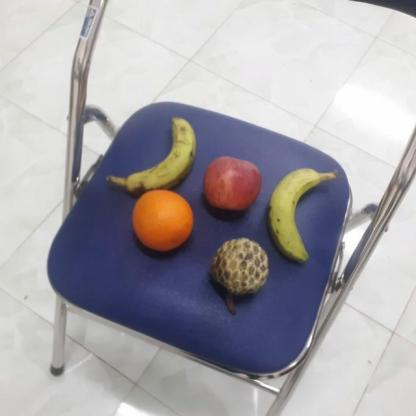annona: (210, 237, 272, 298)
apple: (201, 155, 261, 214)
banana: (118, 114, 199, 194), (266, 167, 335, 260)
orange: (131, 187, 194, 254)
